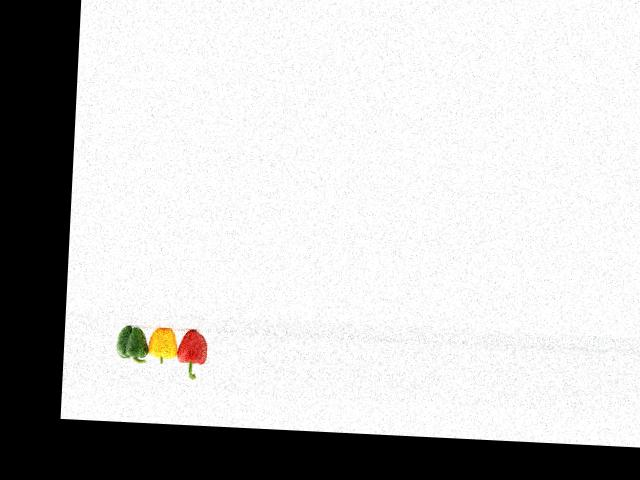bell_pepper: (172, 323, 217, 383)
